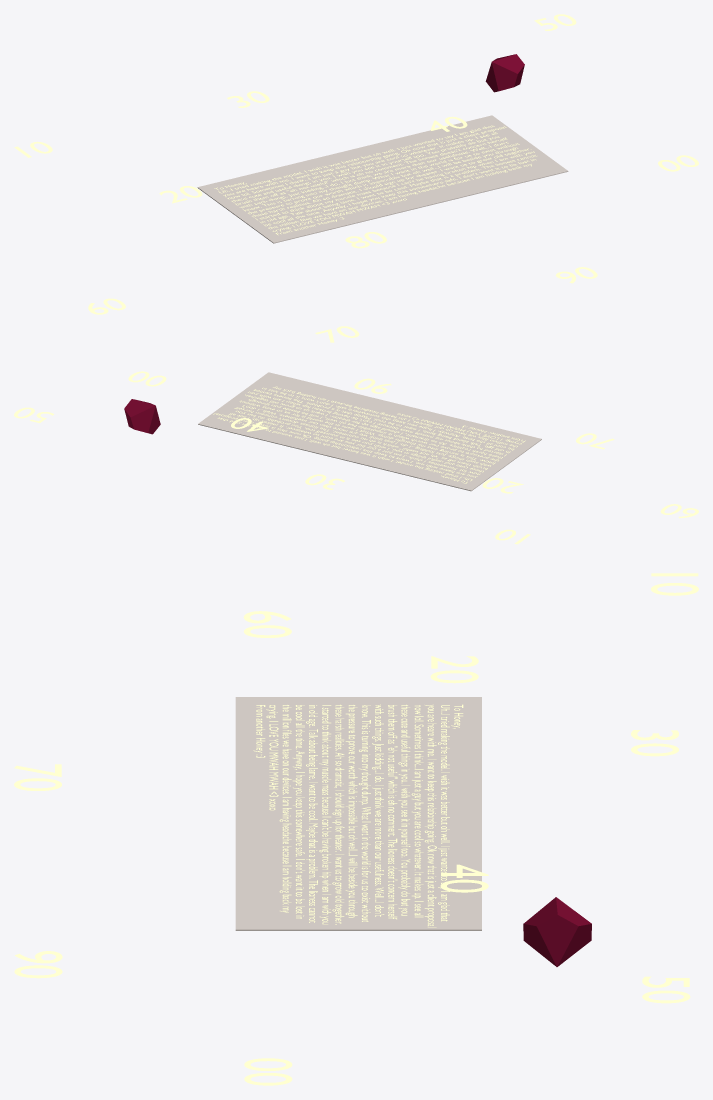
The model's file is CardNDice1.glb.
The picture shows the model from 3 angles, top to bottom: view 1: azimuth 30°, elevation 25°; view 2: azimuth 150°, elevation 25°; view 3: azimuth 270°, elevation 25°; orthographic projection. The views are drawn at different scales.
Visible parts, largest first — view 1: Card, Text.010, D10; view 2: Card, Text.010, D10; view 3: Card, Text.010, D10.
Part boxes in pixels (bbox=[...]): Card: bbox=[197, 115, 568, 243]; Text.010: bbox=[214, 125, 536, 235]; D10: bbox=[485, 54, 524, 92]; Card: bbox=[198, 372, 541, 491]; Text.010: bbox=[213, 386, 525, 483]; D10: bbox=[124, 399, 160, 434]; Card: bbox=[235, 697, 481, 930]; Text.010: bbox=[253, 704, 463, 927]; D10: bbox=[523, 897, 591, 966].
Size of the model in its own units: 16.5 by 2.08 by 9.95.
